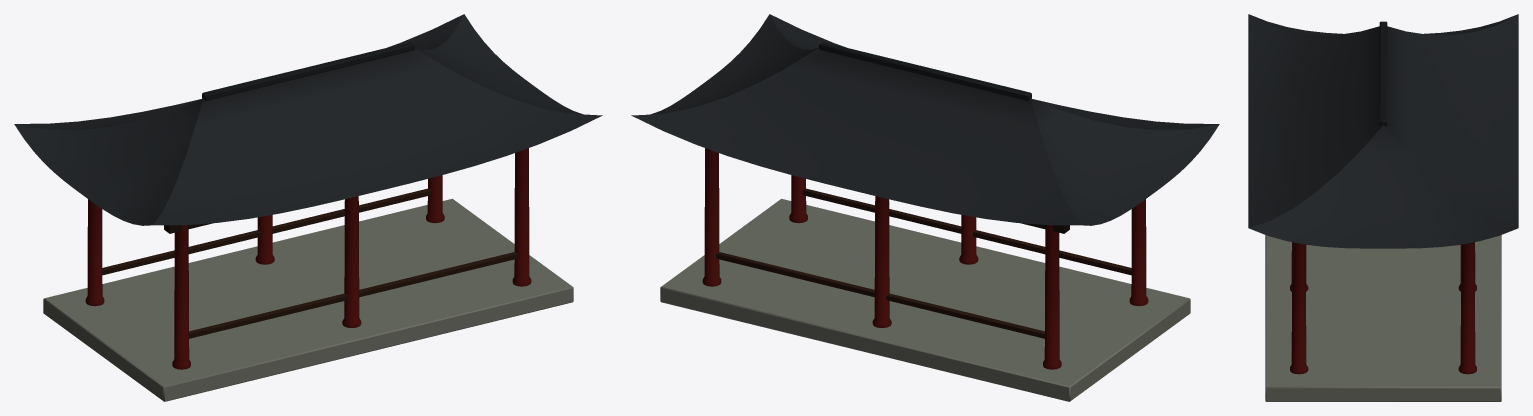
File: hz-pavilion-long.glb
The picture shows the model from 3 angles, left to right: view 1: azimuth 30°, elevation 25°; view 2: azimuth 150°, elevation 25°; view 3: azimuth 270°, elevation 25°; orthographic projection. The views are drawn at different scales.
Parts seen in each view (by area): view 1: roof__tile, platform__stone, columns__lacquer, beams__wood; view 2: roof__tile, platform__stone, columns__lacquer, beams__wood; view 3: roof__tile, platform__stone, columns__lacquer.
Part boxes in pixels (x1=…): roof__tile: x1=14, y1=14, x2=602, y2=225; platform__stone: x1=43, y1=198, x2=573, y2=401; columns__lacquer: x1=85, y1=148, x2=531, y2=369; beams__wood: x1=102, y1=188, x2=517, y2=338; roof__tile: x1=631, y1=14, x2=1219, y2=225; platform__stone: x1=660, y1=198, x2=1190, y2=401; columns__lacquer: x1=702, y1=148, x2=1148, y2=369; beams__wood: x1=716, y1=188, x2=1131, y2=338; roof__tile: x1=1248, y1=14, x2=1518, y2=248; platform__stone: x1=1265, y1=235, x2=1501, y2=401; columns__lacquer: x1=1290, y1=242, x2=1476, y2=374.
Size of the model in its own units: 9 by 4.58 by 4.8.
